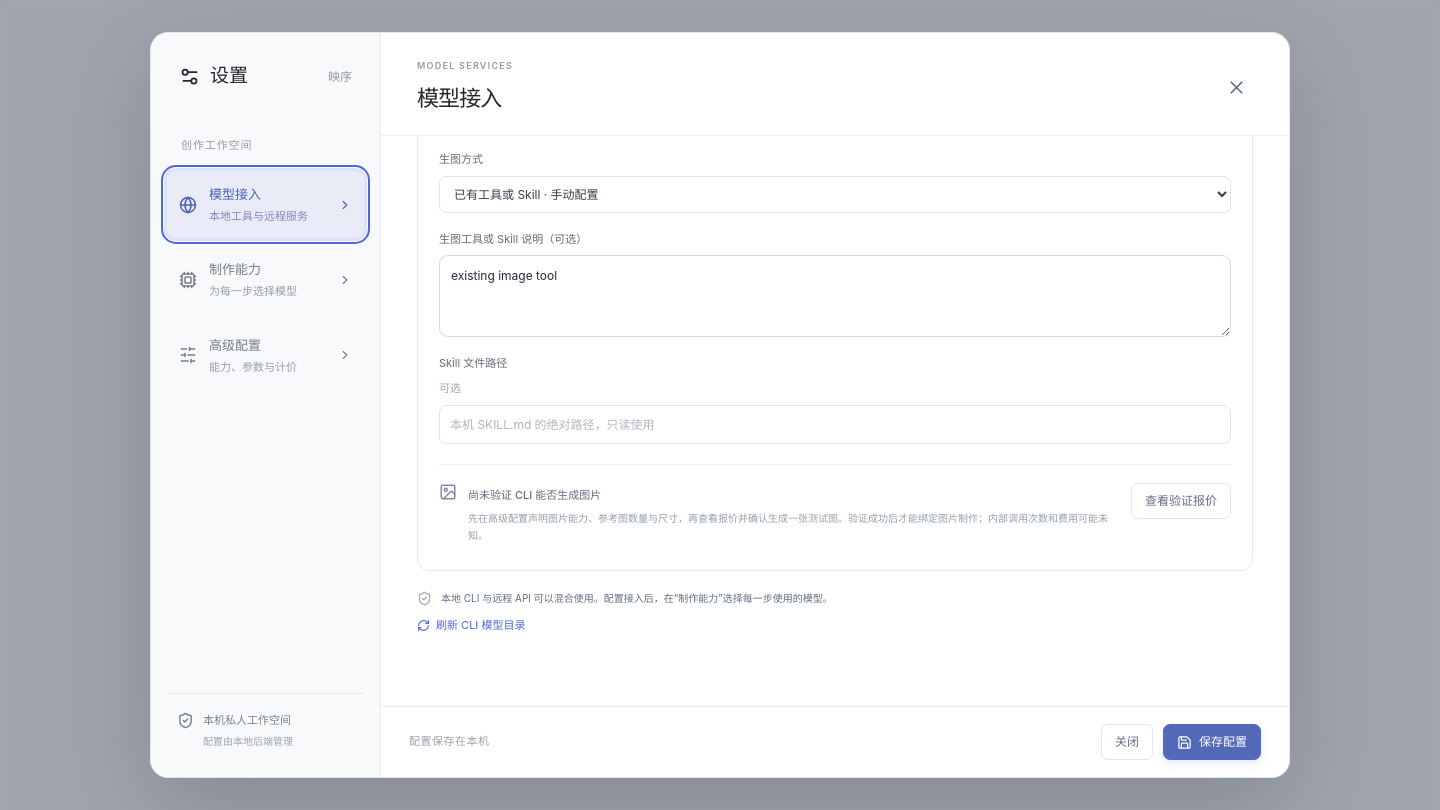
it: 模型服务交互 › 生图验证必须明确接受费用并确认，失败不会自动再次提交
(page scrolled)
Click the button "查看验证报价". click: (1181, 501)
box: [1131,483,1231,519]
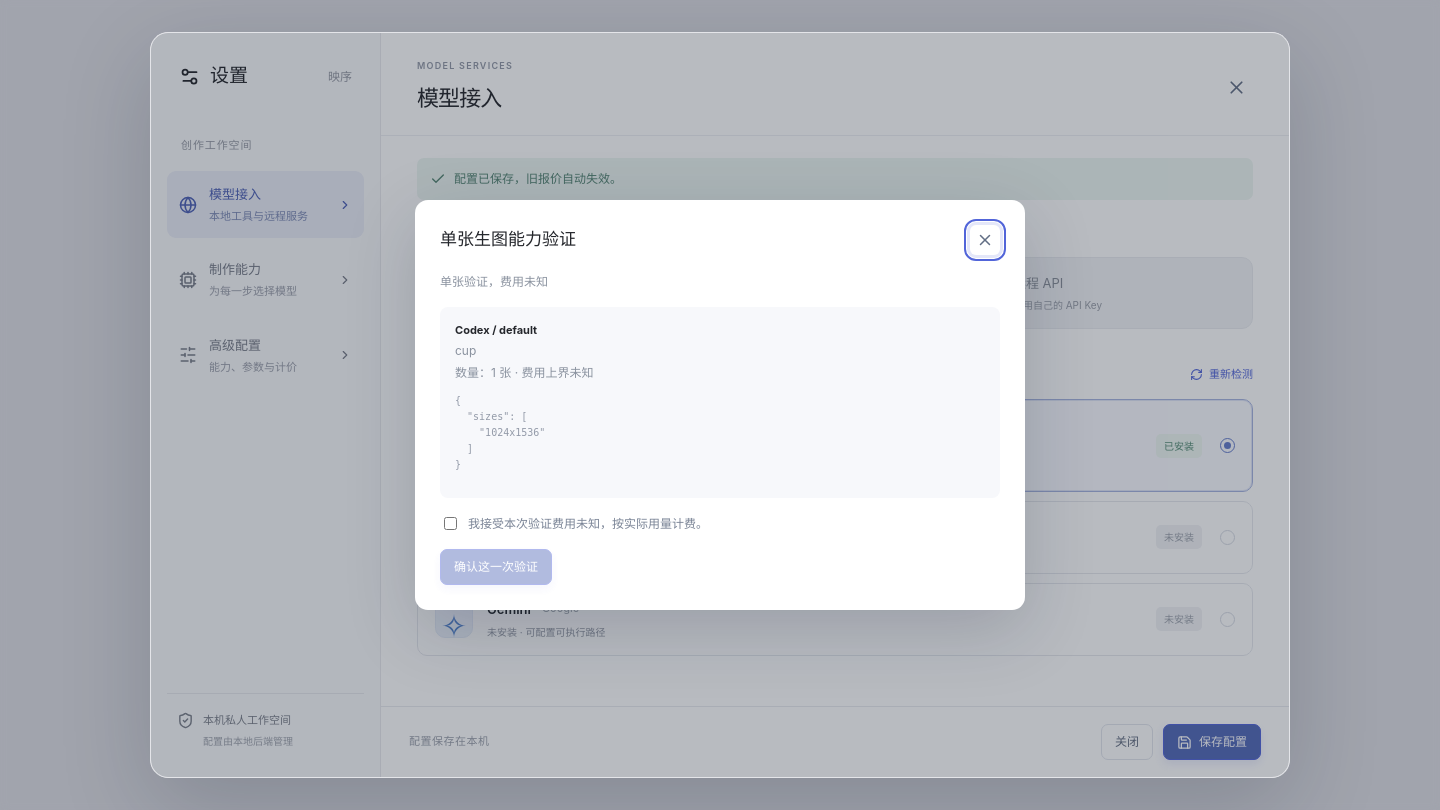
Check: the button "确认这一次验证" is disabled, box [440,549,552,585]
Click the checkbox labelled "我接受本次验证费用未知，按实际用量计费。". click: (450, 524)
box: [444,517,457,530]
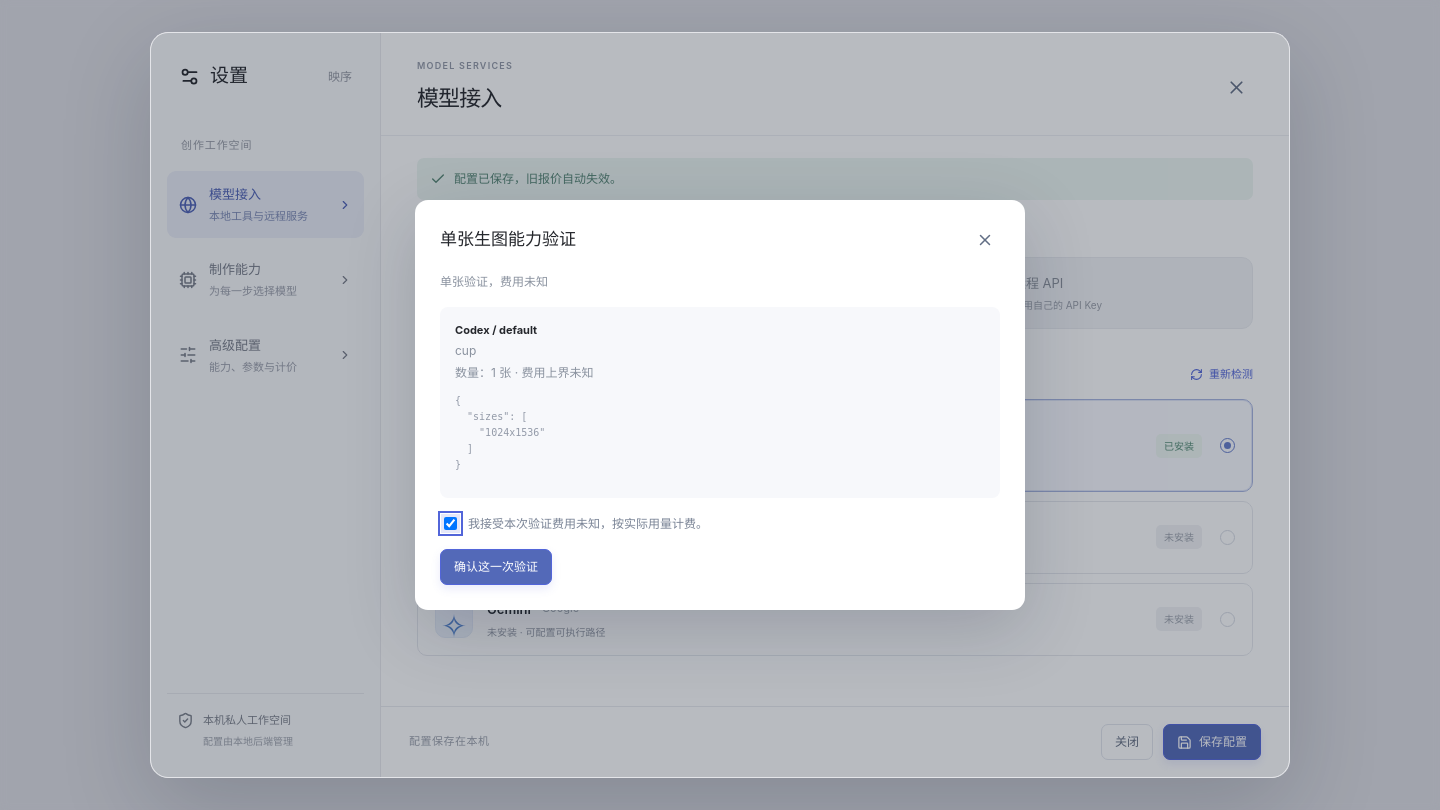
Click the button "确认这一次验证". click: (496, 567)
box: [440,549,552,585]
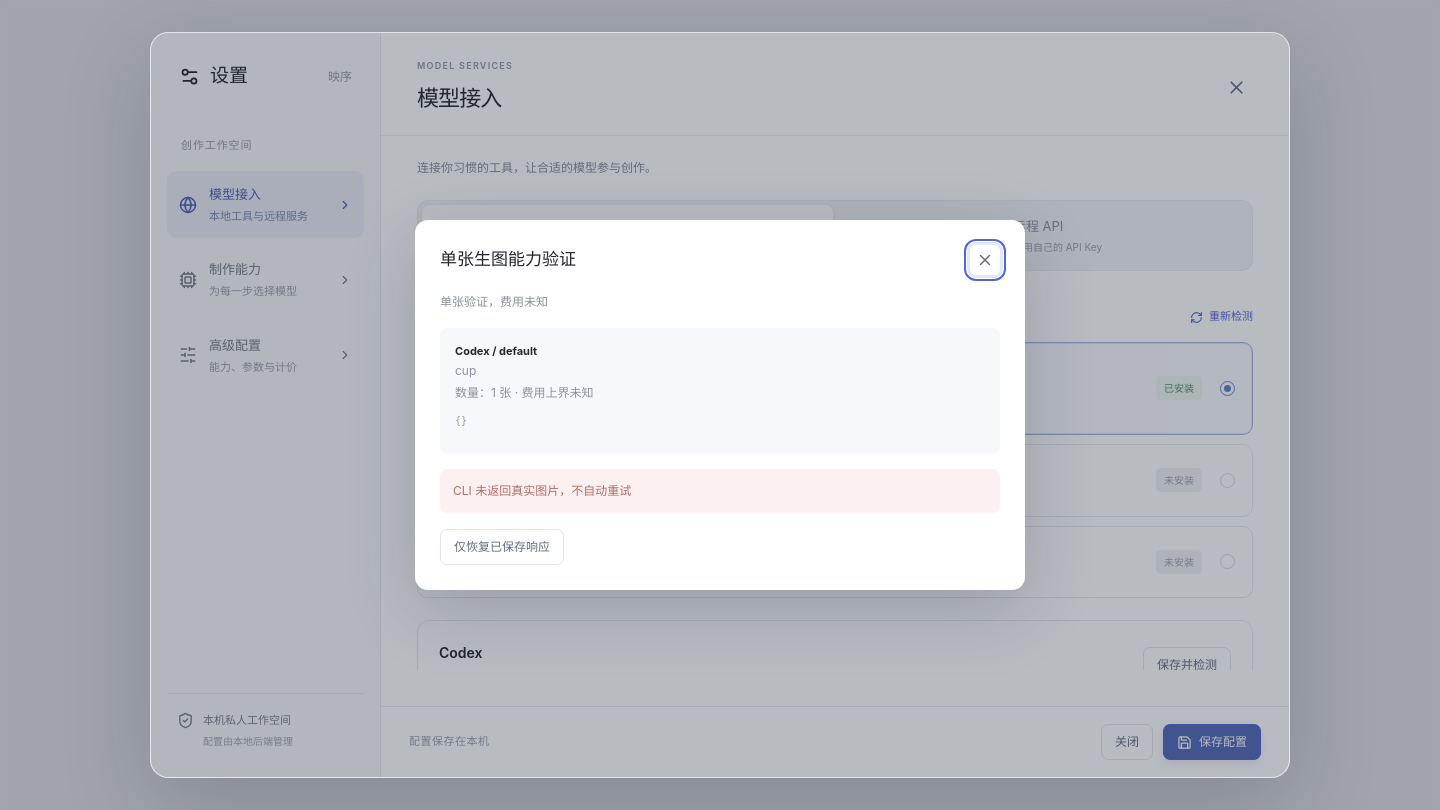
Check: the text "CLI 未返回真实图片，不自动重试" is shown, box [440,469,1000,513]
